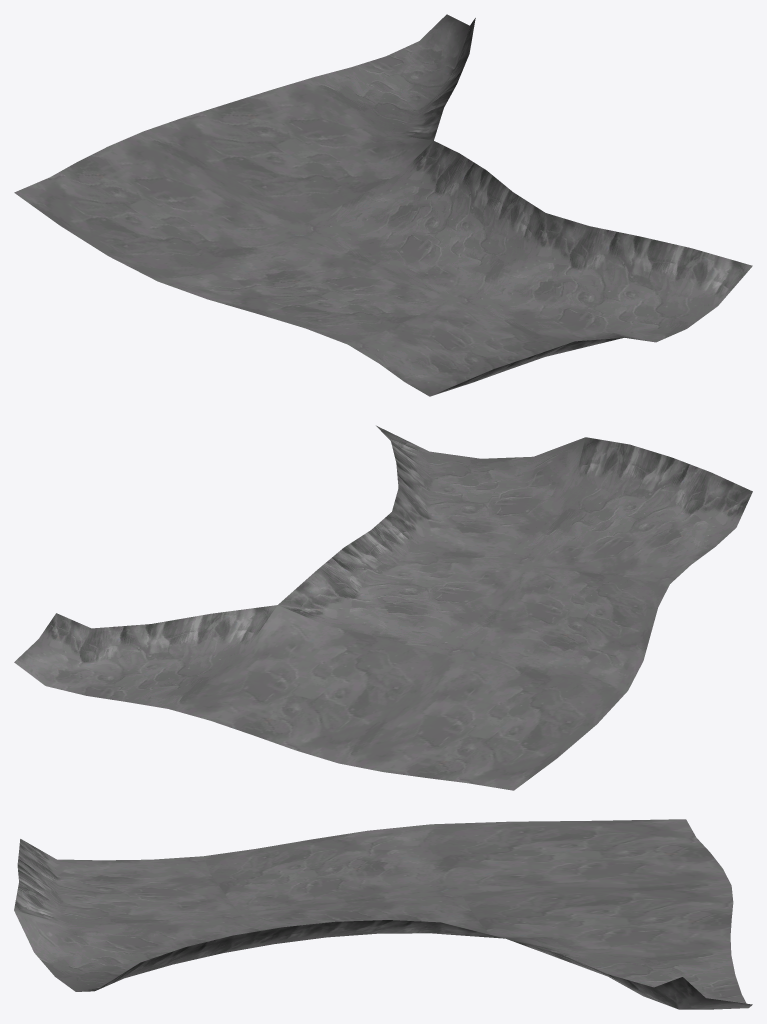
Rendered from SWORDLIGHT20_PS-AREA03_139.fbx.
3 views of the same model, one above another, from view 1: azimuth 30°, elevation 25°; view 2: azimuth 150°, elevation 25°; view 3: azimuth 270°, elevation 25° (orthographic).
Visible parts, largest first — view 1: SWORDLIGHT20_PS-AREA03_139; view 2: SWORDLIGHT20_PS-AREA03_139; view 3: SWORDLIGHT20_PS-AREA03_139.
Boxes of the visible parts, bbox=[...] form: SWORDLIGHT20_PS-AREA03_139: bbox=[14, 14, 752, 396]; SWORDLIGHT20_PS-AREA03_139: bbox=[14, 425, 752, 790]; SWORDLIGHT20_PS-AREA03_139: bbox=[14, 819, 752, 1009].
Size of the model in its own units: 126654 by 16954 by 176263.
3 materials, 3 textured.
